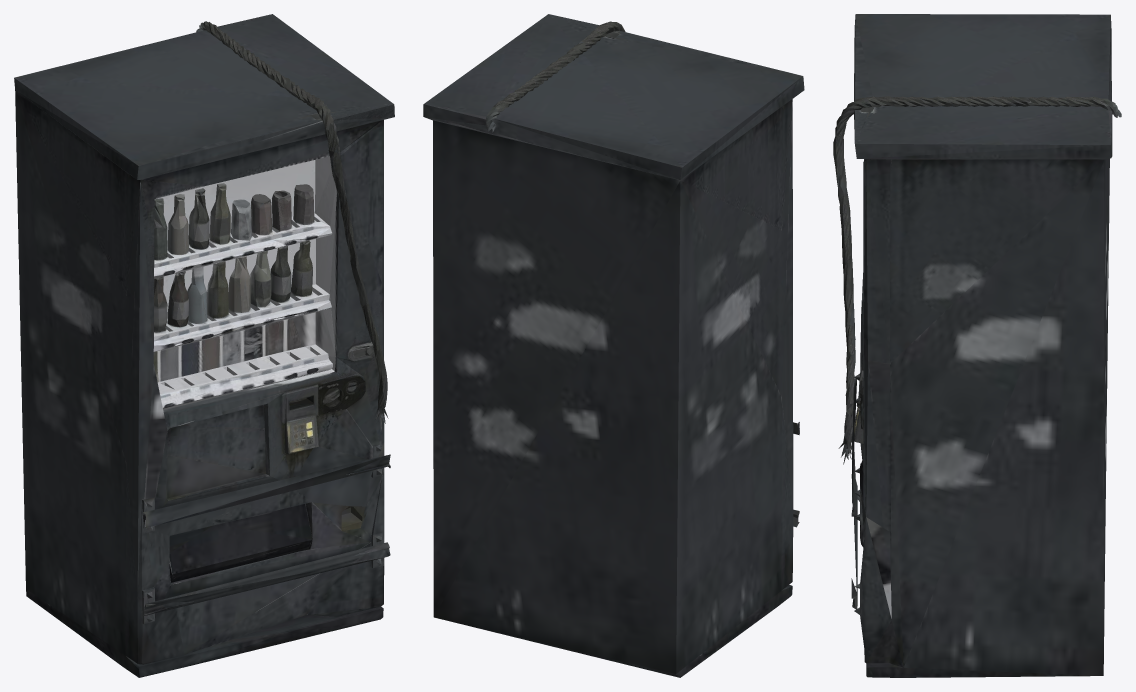
File: ncz-vending.glb
3 views of the same model, side by side, from view 1: azimuth 30°, elevation 25°; view 2: azimuth 150°, elevation 25°; view 3: azimuth 270°, elevation 25° (orthographic). The views are drawn at different scales.
Visible parts, largest first — view 1: output_unwrapped; view 2: output_unwrapped; view 3: output_unwrapped.
Boxes of the visible parts, box(x1,y1,x2,y2) form: output_unwrapped: box(14, 14, 394, 677); output_unwrapped: box(423, 14, 804, 677); output_unwrapped: box(833, 14, 1121, 677).
Size of the model in its own units: 0.9679 by 1.9 by 0.8995.
1 material, 1 textured.
